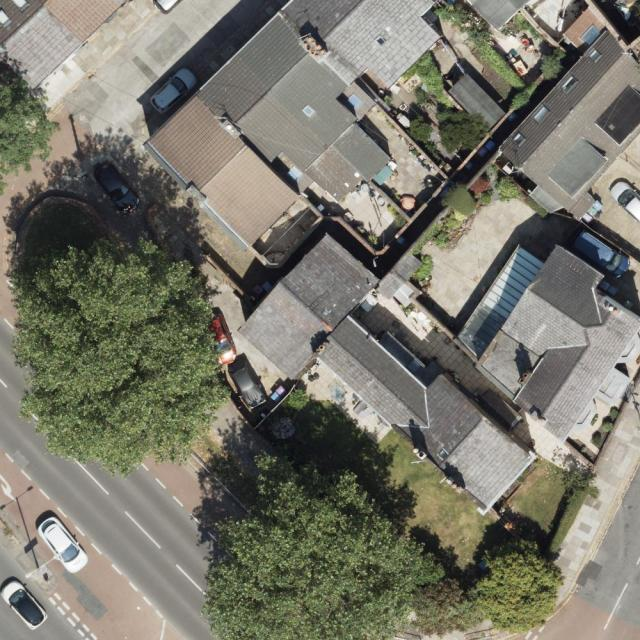roof: (235, 225, 539, 516), (147, 0, 442, 250), (450, 242, 640, 445), (503, 4, 640, 217), (0, 0, 135, 92)
skylight: (581, 20, 607, 46), (556, 75, 579, 96), (531, 103, 552, 124), (302, 96, 316, 123), (585, 48, 605, 66), (510, 131, 530, 148), (373, 30, 393, 46)
